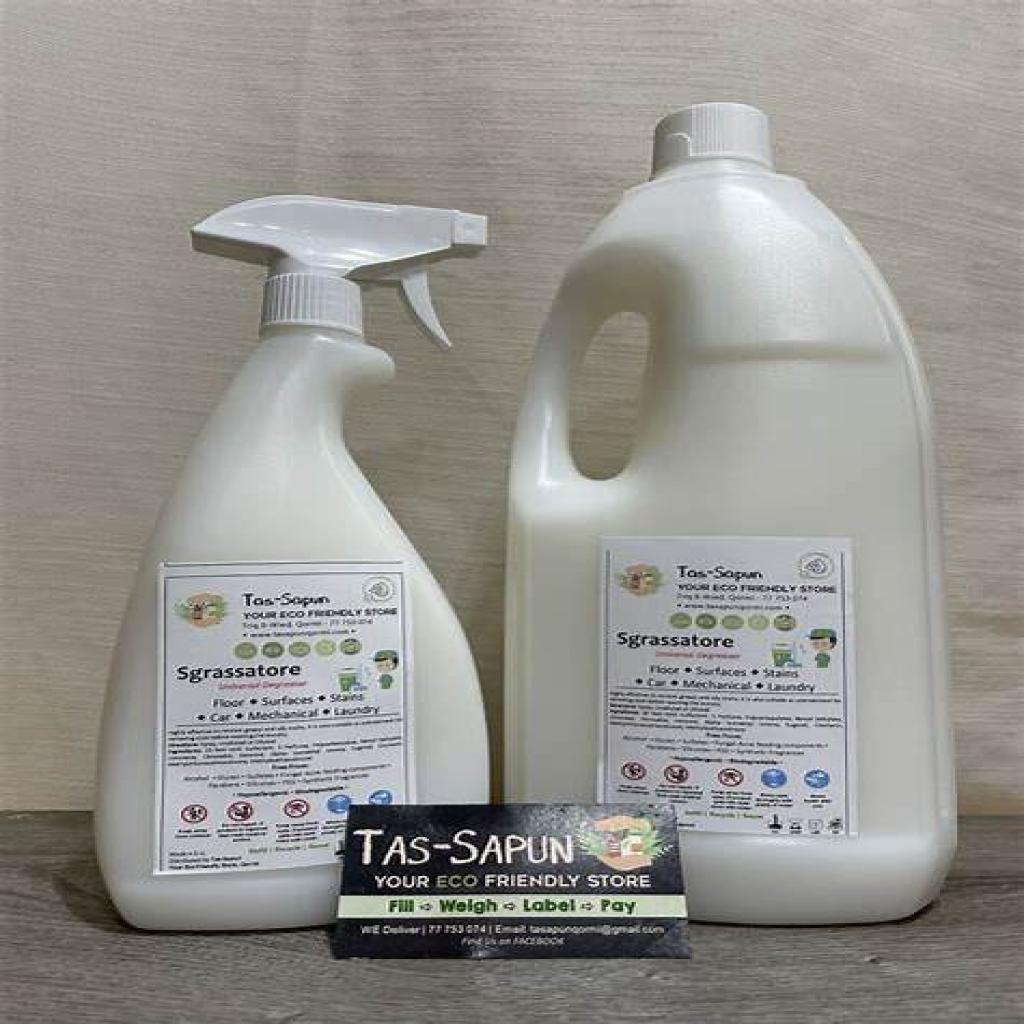organico: (477, 97, 975, 938), (81, 137, 498, 901)
